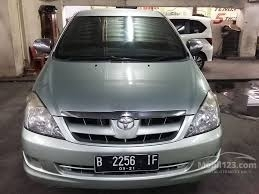plate: (94, 154, 159, 171)
